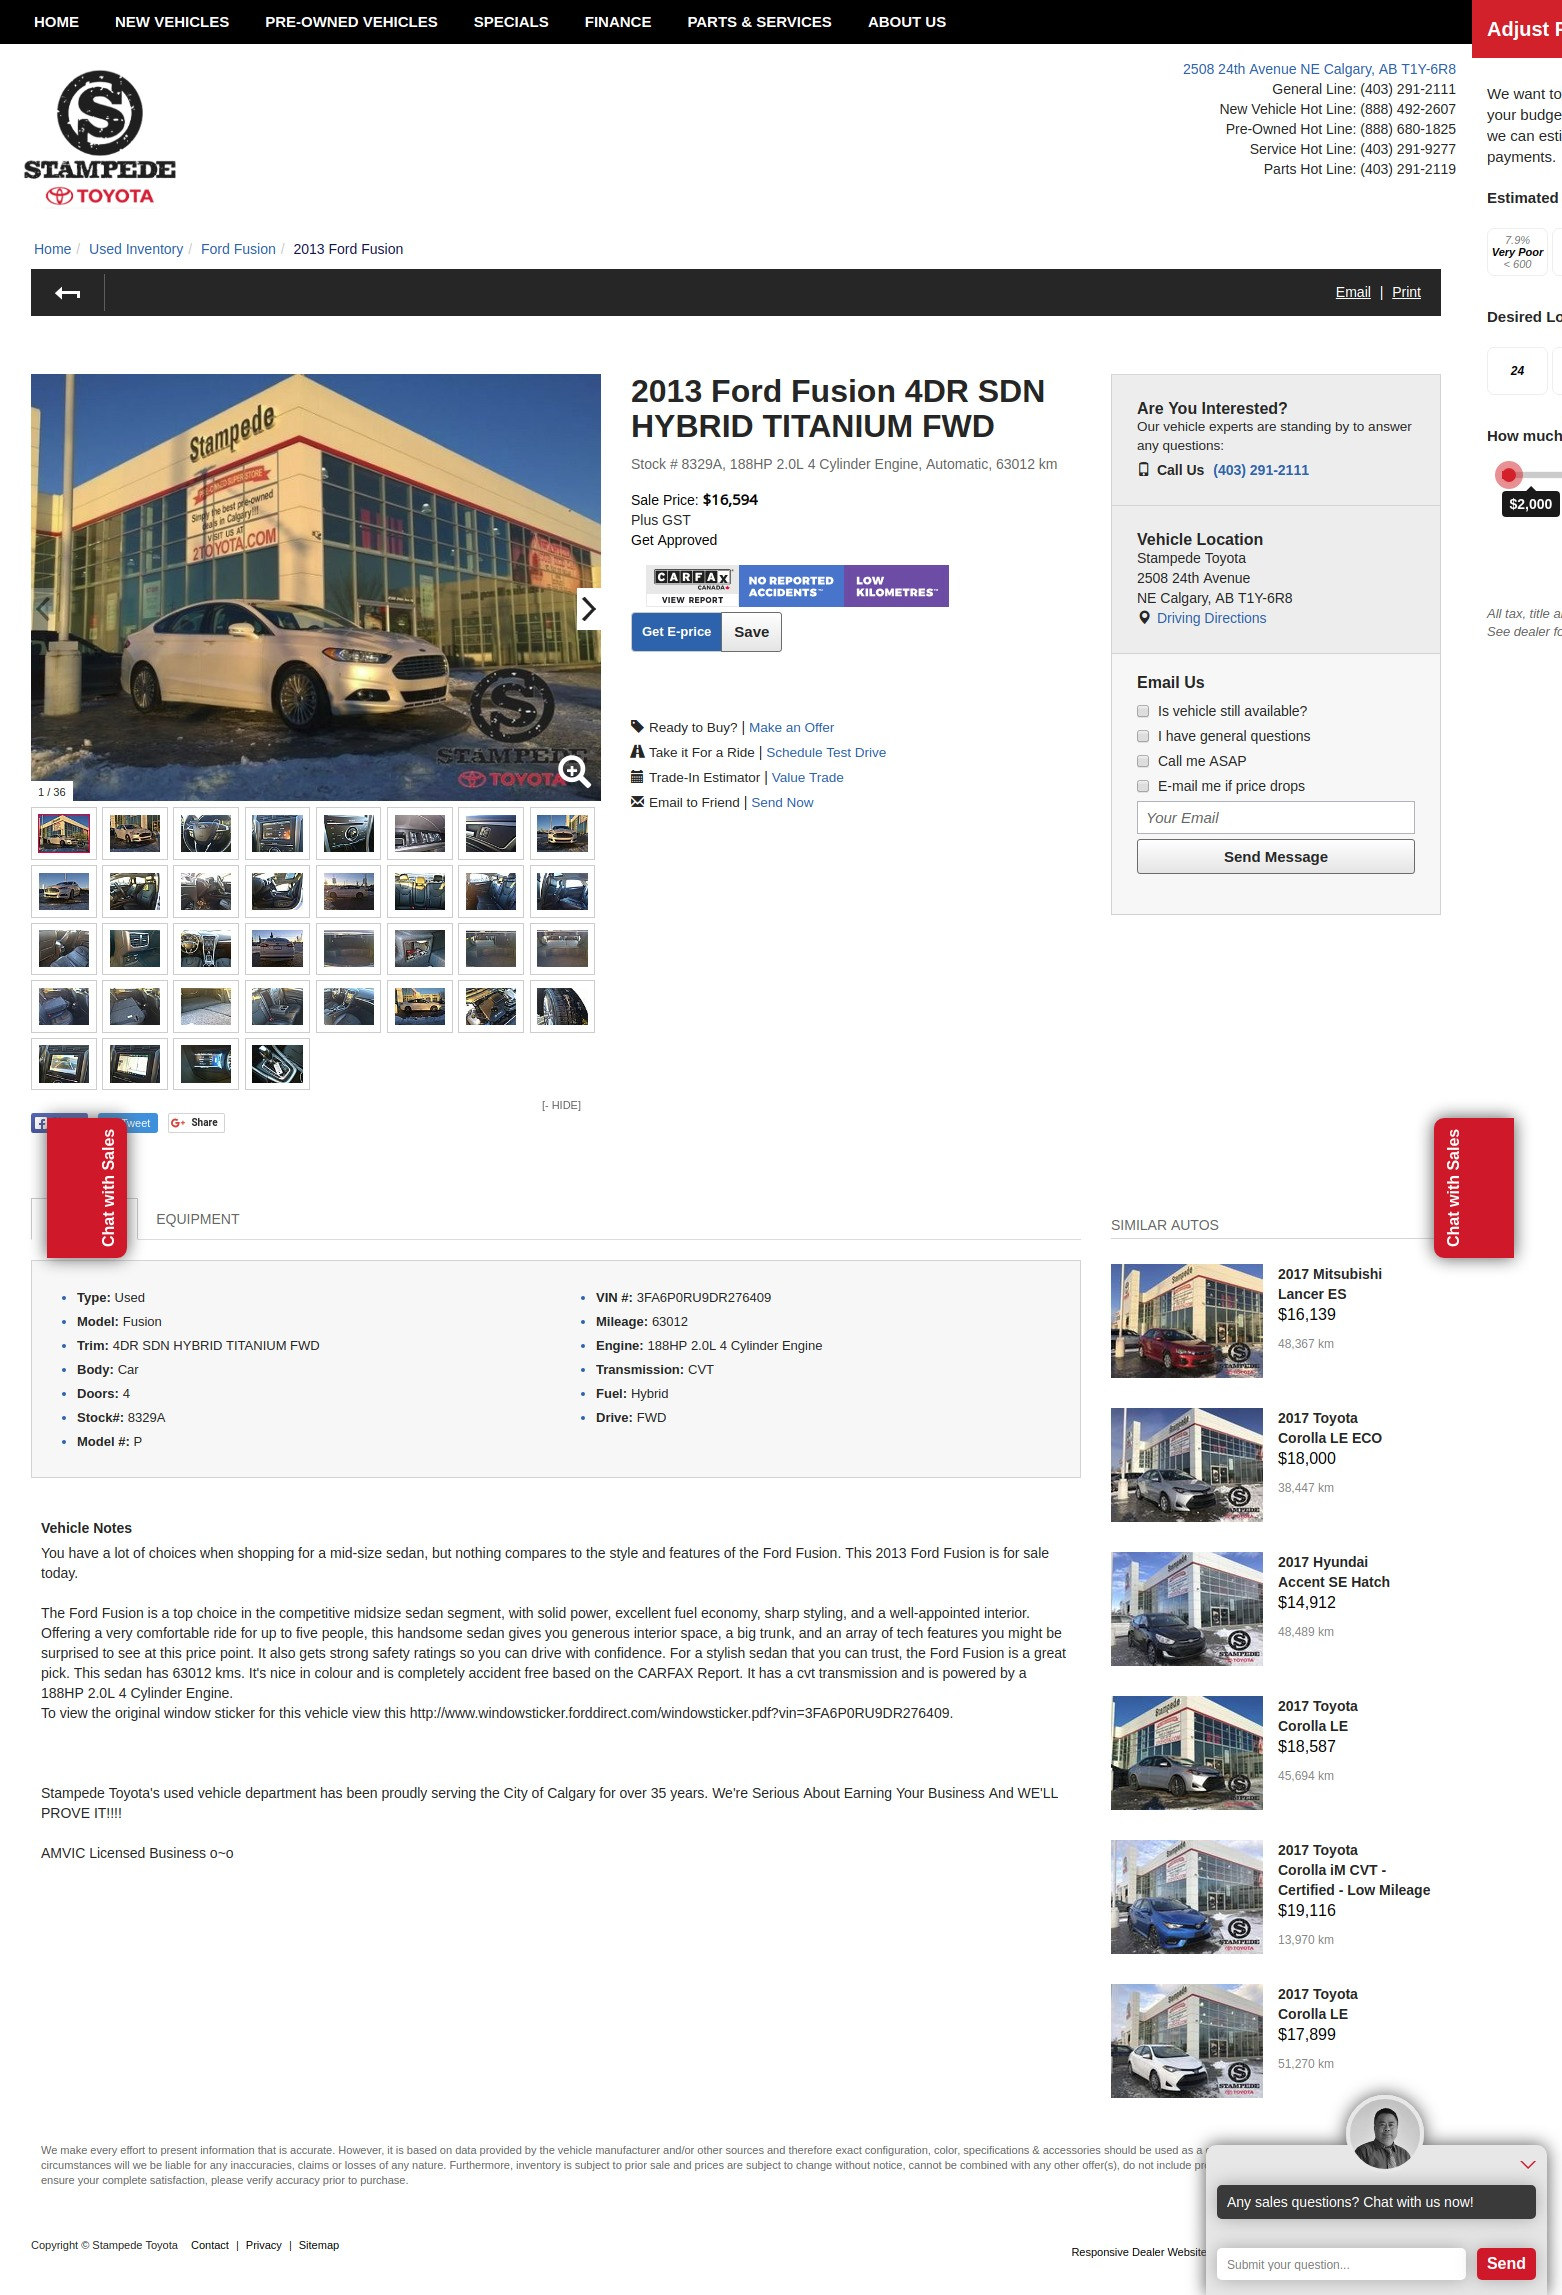car: (582, 598, 598, 624)
